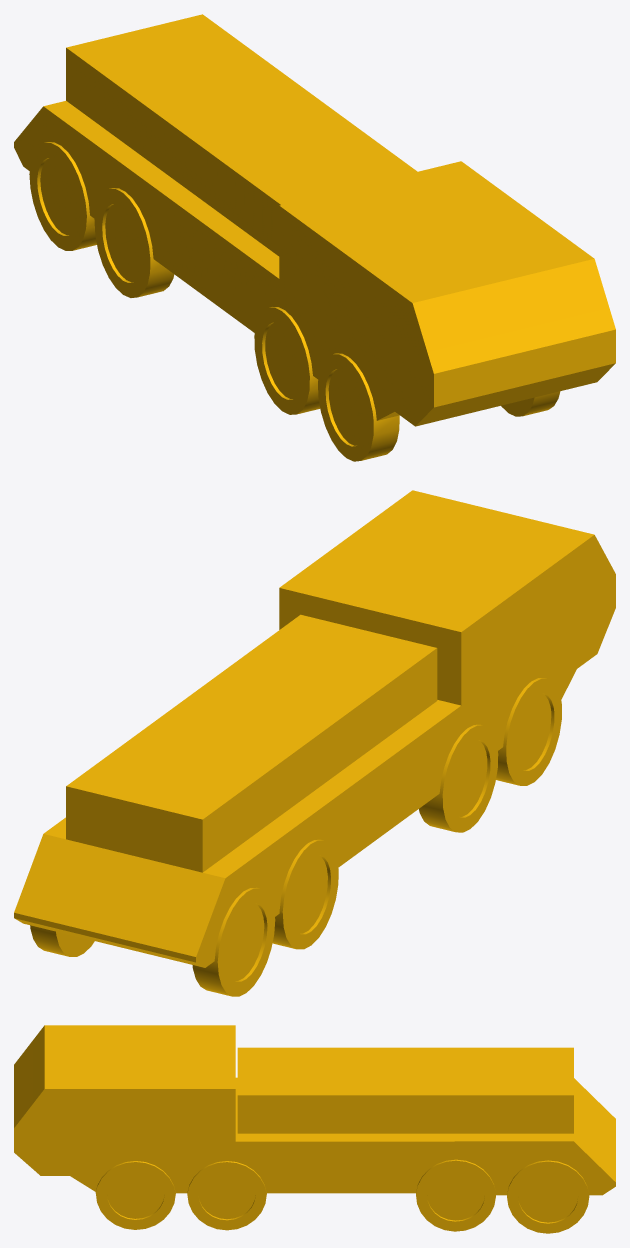
The model's file is Boardgame_Piece_Military_Modern_Scud_Yellow_01.fbx.
The picture shows the model from 3 angles, top to bottom: view 1: azimuth 30°, elevation 25°; view 2: azimuth 150°, elevation 25°; view 3: azimuth 270°, elevation 25°; orthographic projection. The views are drawn at different scales.
Parts seen in each view (by area): view 1: Boardgame_Piece_Military_Modern_Scud_Yellow_01; view 2: Boardgame_Piece_Military_Modern_Scud_Yellow_01; view 3: Boardgame_Piece_Military_Modern_Scud_Yellow_01.
Boxes of the visible parts, x1,y1,x2,y2 form: Boardgame_Piece_Military_Modern_Scud_Yellow_01: (14,14,615,461); Boardgame_Piece_Military_Modern_Scud_Yellow_01: (14,490,615,996); Boardgame_Piece_Military_Modern_Scud_Yellow_01: (14,1025,615,1233).
Bounding box in the file's own units: 28.56 × 29.06 × 110.
